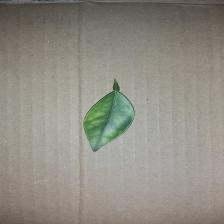greening: (83, 74, 137, 153)
